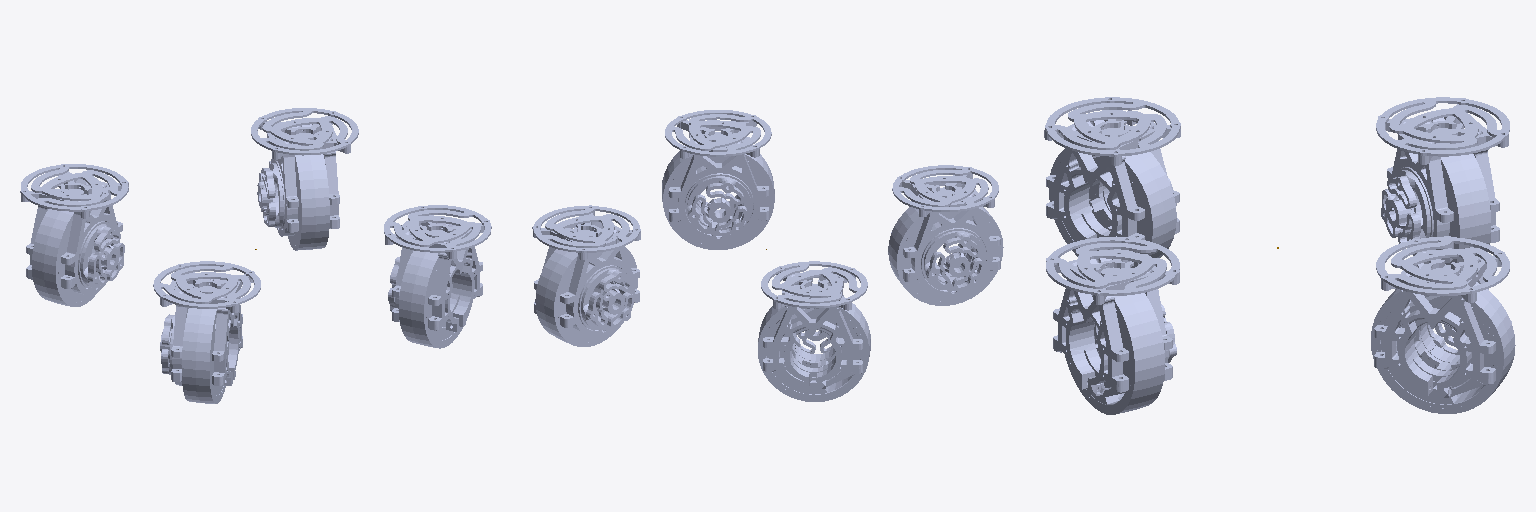
The robot description file, URDF, robot "Infantry2023":
<?xml version="1.0" encoding="utf-8"?>
<!-- This URDF was automatically created by SolidWorks to URDF Exporter! Originally created by [author] ([email redacted]) 
     Commit Version: 1.6.0-4-g7f85cfe  Build Version: 1.6.7995.38578
     For more information, please see http://wiki.ros.org/sw_urdf_exporter -->
<robot
  name="Infantry2023">
<link name="base_footprint">
    <visual>
        <origin xyz="0 0 0" rpy="0 0 0" />
        <geometry>
            <box size="0.001 0.001 0.001" />
        </geometry>
    </visual>
</link>

<joint name="base_footprint_joint" type="fixed">
    <origin xyz="0 0 0.001" rpy="0 0 0" />
    <parent link="base_footprint"/>
    <child link="base_link" />
</joint>
  <link
    name="base_link">
    <inertial>
      <origin
        xyz="-4.44731268389602E-05 -0.0128958761443199 0.0452136078609108"
        rpy="0 0 0" />
      <mass
        value="3.32445638874452" />
      <inertia
        ixx="0.00491568530747167"
        ixy="3.12661948325221E-07"
        ixz="6.0478132968072E-06"
        iyy="0.00558523884351327"
        iyz="-2.72827472437847E-05"
        izz="0.00788013913942305" />
    </inertial>
    <visual>
      <origin
        xyz="0 0 0"
        rpy="0 0 0" />
      <geometry>
        <mesh
          filename="package://infantry2023_description/meshes/visual/base_link.STL" />
      </geometry>
      <material
        name="">
        <color
          rgba="0.627450980392157 0.627450980392157 0.627450980392157 1" />
      </material>
    </visual>
    <collision>
      <origin
        xyz="0 0 0"
        rpy="0 0 0" />
      <geometry>
        <mesh
          filename="package://infantry2023_description/meshes/visual/base_link.STL" />
      </geometry>
    </collision>
  </link>
  <link
    name="Swerve1">
    <inertial>
      <origin
        xyz="-0.00218228603039089 -0.00561838251563398 0.000154985992435519"
        rpy="0 0 0" />
      <mass
        value="0.12509051804459" />
      <inertia
        ixx="0.000116981505902208"
        ixy="-1.18216858539901E-06"
        ixz="7.48448129109755E-09"
        iyy="8.01262501702026E-05"
        iyz="1.76996404557449E-06"
        izz="6.59357695156801E-05" />
    </inertial>
    <visual>
      <origin
        xyz="0 0 0"
        rpy="0 0 0" />
      <geometry>
        <mesh
          filename="package://infantry2023_description/meshes/visual/Swerve1.STL" />
      </geometry>
      <material
        name="">
        <color
          rgba="0.792156862745098 0.819607843137255 0.933333333333333 1" />
      </material>
    </visual>
    <collision>
      <origin
        xyz="0 0 0"
        rpy="0 0 0" />
      <geometry>
        <mesh
          filename="package://infantry2023_description/meshes/visual/Swerve1.STL" />
      </geometry>
    </collision>
  </link>
  <joint
    name="SwerveOrt1"
    type="continuous">
    <origin
      xyz="0.117999999999998 -0.118 0"
      rpy="1.5707963267949 0 -1.0077804964065" />
    <parent
      link="base_link" />
    <child
      link="Swerve1" />
    <axis
      xyz="0 1 0" />
  </joint>
  <link
    name="Wheel1">
    <inertial>
      <origin
        xyz="-0.00181927157167486 3.36064289868654E-08 2.74504813879695E-08"
        rpy="0 0 0" />
      <mass
        value="0.0781527646115954" />
      <inertia
        ixx="0.000152722323872376"
        ixy="1.12277614929581E-11"
        ixz="9.56457614627001E-12"
        iyy="8.06084271810555E-05"
        iyz="1.18378410380445E-10"
        izz="8.06079297167232E-05" />
    </inertial>
    <visual>
      <origin
        xyz="0 0 0"
        rpy="0 0 0" />
      <geometry>
        <mesh
          filename="package://infantry2023_description/meshes/visual/Wheel1.STL" />
      </geometry>
      <material
        name="">
        <color
          rgba="0.792156862745098 0.819607843137255 0.933333333333333 1" />
      </material>
    </visual>
    <collision>
      <origin
        xyz="0 0 0"
        rpy="0 0 0" />
      <geometry>
        <mesh
          filename="package://infantry2023_description/meshes/visual/Wheel1.STL" />
      </geometry>
    </collision>
  </link>
  <joint
    name="Wheel1"
    type="continuous">
    <origin
      xyz="0 -0.0207999999999906 9.02643274049153E-05"
      rpy="-0.584542615061481 0 0" />
    <parent
      link="Swerve1" />
    <child
      link="Wheel1" />
    <axis
      xyz="1 0 0" />
  </joint>
  <link
    name="Swerve2">
    <inertial>
      <origin
        xyz="-0.00165675945646224 -0.00561838267415753 -0.00142882729081312"
        rpy="0 0 0" />
      <mass
        value="0.125090525969345" />
      <inertia
        ixx="9.15958729998234E-05"
        ixy="-2.08628605932632E-06"
        ixz="2.55225001901956E-05"
        iyy="8.01262508302358E-05"
        iyz="4.21550708362048E-07"
        izz="9.1321403934597E-05" />
    </inertial>
    <visual>
      <origin
        xyz="0 0 0"
        rpy="0 0 0" />
      <geometry>
        <mesh
          filename="package://infantry2023_description/meshes/visual/Swerve2.STL" />
      </geometry>
      <material
        name="">
        <color
          rgba="0.792156862745098 0.819607843137255 0.933333333333333 1" />
      </material>
    </visual>
    <collision>
      <origin
        xyz="0 0 0"
        rpy="0 0 0" />
      <geometry>
        <mesh
          filename="package://infantry2023_description/meshes/visual/Swerve2.STL" />
      </geometry>
    </collision>
  </link>
  <joint
    name="SwerveOrt2"
    type="continuous">
    <origin
      xyz="-0.117999999999998 -0.118000000000005 0"
      rpy="1.5707963267949 0 0.0452748853481586" />
    <parent
      link="base_link" />
    <child
      link="Swerve2" />
    <axis
      xyz="0 1 0" />
  </joint>
  <link
    name="Wheel2">
    <inertial>
      <origin
        xyz="-0.00181927157167293 3.36064223255272E-08 2.74504762809435E-08"
        rpy="0 0 0" />
      <mass
        value="0.0781527646115949" />
      <inertia
        ixx="0.000152722323872376"
        ixy="1.12277614353599E-11"
        ixz="9.56457623266737E-12"
        iyy="8.0608427181056E-05"
        iyz="1.18378410342328E-10"
        izz="8.06079297167238E-05" />
    </inertial>
    <visual>
      <origin
        xyz="0 0 0"
        rpy="0 0 0" />
      <geometry>
        <mesh
          filename="package://infantry2023_description/meshes/visual/Wheel2.STL" />
      </geometry>
      <material
        name="">
        <color
          rgba="0.792156862745098 0.819607843137255 0.933333333333333 1" />
      </material>
    </visual>
    <collision>
      <origin
        xyz="0 0 0"
        rpy="0 0 0" />
      <geometry>
        <mesh
          filename="package://infantry2023_description/meshes/visual/Wheel2.STL" />
      </geometry>
    </collision>
  </link>
  <joint
    name="Wheel2"
    type="continuous">
    <origin
      xyz="-6.36453073919047E-05 -0.0208000000000706 6.40072156073007E-05"
      rpy="-0.584542615061623 -0.782563066705172 0" />
    <parent
      link="Swerve2" />
    <child
      link="Wheel2" />
    <axis
      xyz="1 0 0" />
  </joint>
  <link
    name="Swerve3">
    <inertial>
      <origin
        xyz="-0.00165474205243812 -0.00561927055977862 -0.00143085388976742"
        rpy="0 0 0" />
      <mass
        value="0.125090517964765" />
      <inertia
        ixx="9.15949389868014E-05"
        ixy="-2.08309795519893E-06"
        ixz="2.55248553899142E-05"
        iyy="8.01309763200056E-05"
        iyz="4.15667291107872E-07"
        izz="9.13176103696124E-05" />
    </inertial>
    <visual>
      <origin
        xyz="0 0 0"
        rpy="0 0 0" />
      <geometry>
        <mesh
          filename="package://infantry2023_description/meshes/visual/Swerve3.STL" />
      </geometry>
      <material
        name="">
        <color
          rgba="0.792156862745098 0.819607843137255 0.933333333333333 1" />
      </material>
    </visual>
    <collision>
      <origin
        xyz="0 0 0"
        rpy="0 0 0" />
      <geometry>
        <mesh
          filename="package://infantry2023_description/meshes/visual/Swerve3.STL" />
      </geometry>
    </collision>
  </link>
  <joint
    name="SwerveOrt3"
    type="continuous">
    <origin
      xyz="-0.118000000000001 0.117999999999997 0"
      rpy="1.5707963267949 0 2.82650685286413" />
    <parent
      link="base_link" />
    <child
      link="Swerve3" />
    <axis
      xyz="0 1 0" />
  </joint>
  <link
    name="Wheel3">
    <inertial>
      <origin
        xyz="-0.00181927277030913 7.13123274320715E-09 3.44955778525113E-09"
        rpy="0 0 0" />
      <mass
        value="0.0781527846492034" />
      <inertia
        ixx="0.000152722241044495"
        ixy="3.85994347921158E-12"
        ixz="2.88532717344719E-12"
        iyy="8.06082280952508E-05"
        iyz="8.97427221070886E-12"
        izz="8.06080464826168E-05" />
    </inertial>
    <visual>
      <origin
        xyz="0 0 0"
        rpy="0 0 0" />
      <geometry>
        <mesh
          filename="package://infantry2023_description/meshes/visual/Wheel3.STL" />
      </geometry>
      <material
        name="">
        <color
          rgba="0.792156862745098 0.819607843137255 0.933333333333333 1" />
      </material>
    </visual>
    <collision>
      <origin
        xyz="0 0 0"
        rpy="0 0 0" />
      <geometry>
        <mesh
          filename="package://infantry2023_description/meshes/visual/Wheel3.STL" />
      </geometry>
    </collision>
  </link>
  <joint
    name="Wheel3"
    type="continuous">
    <origin
      xyz="-6.36453073868948E-05 -0.0207999999999939 6.40072156022353E-05"
      rpy="-2.28570134033651 -0.782563066705175 0" />
    <parent
      link="Swerve3" />
    <child
      link="Wheel3" />
    <axis
      xyz="1 0 0" />
  </joint>
  <link
    name="Swerve4">
    <inertial>
      <origin
        xyz="-0.00165676146400878 -0.0056183827508177 -0.00142882907128244"
        rpy="0 0 0" />
      <mass
        value="0.125090533339578" />
      <inertia
        ixx="9.15958737370791E-05"
        ixy="-2.08628549049005E-06"
        ixz="2.55225000199367E-05"
        iyy="8.01262510701868E-05"
        iyz="4.21550053342676E-07"
        izz="9.1321404723039E-05" />
    </inertial>
    <visual>
      <origin
        xyz="0 0 0"
        rpy="0 0 0" />
      <geometry>
        <mesh
          filename="package://infantry2023_description/meshes/visual/Swerve4.STL" />
      </geometry>
      <material
        name="">
        <color
          rgba="0.792156862745098 0.819607843137255 0.933333333333333 1" />
      </material>
    </visual>
    <collision>
      <origin
        xyz="0 0 0"
        rpy="0 0 0" />
      <geometry>
        <mesh
          filename="package://infantry2023_description/meshes/visual/Swerve4.STL" />
      </geometry>
    </collision>
  </link>
  <joint
    name="SwerveOrt4"
    type="continuous">
    <origin
      xyz="0.117999999999991 0.117999999999998 0"
      rpy="1.5707963267949 0 0.454955024862355" />
    <parent
      link="base_link" />
    <child
      link="Swerve4" />
    <axis
      xyz="0 1 0" />
  </joint>
  <link
    name="Wheel4">
    <inertial>
      <origin
        xyz="-0.00181927157167497 3.3606435620448E-08 2.74504864672398E-08"
        rpy="0 0 0" />
      <mass
        value="0.0781527646115949" />
      <inertia
        ixx="0.000152722323872377"
        ixy="1.12277615802025E-11"
        ixz="9.56457621572671E-12"
        iyy="8.0608427181056E-05"
        iyz="1.18378410745516E-10"
        izz="8.06079297167232E-05" />
    </inertial>
    <visual>
      <origin
        xyz="0 0 0"
        rpy="0 0 0" />
      <geometry>
        <mesh
          filename="package://infantry2023_description/meshes/visual/Wheel4.STL" />
      </geometry>
      <material
        name="">
        <color
          rgba="0.792156862745098 0.819607843137255 0.933333333333333 1" />
      </material>
    </visual>
    <collision>
      <origin
        xyz="0 0 0"
        rpy="0 0 0" />
      <geometry>
        <mesh
          filename="package://infantry2023_description/meshes/visual/Wheel4.STL" />
      </geometry>
    </collision>
  </link>
  <joint
    name="Wheel4"
    type="continuous">
    <origin
      xyz="-6.36453073884491E-05 -0.0207999999998955 6.40072156038243E-05"
      rpy="-0.584542615061526 -0.782563066705173 0" />
    <parent
      link="Swerve4" />
    <child
      link="Wheel4" />
    <axis
      xyz="1 0 0" />
  </joint>
  <link
    name="TurretBody">
    <inertial>
      <origin
        xyz="-0.00238952849570441 0.058759051673963 0.0124010780918334"
        rpy="0 0 0" />
      <mass
        value="0.622229722588355" />
      <inertia
        ixx="0.000646381393997478"
        ixy="-5.93749252738385E-06"
        ixz="-1.1270166357088E-05"
        iyy="0.000465990637412568"
        iyz="6.89675151459739E-06"
        izz="0.000624308726742422" />
    </inertial>
    <visual>
      <origin
        xyz="0 0 0"
        rpy="0 0 0" />
      <geometry>
        <mesh
          filename="package://infantry2023_description/meshes/visual/TurretBody.STL" />
      </geometry>
      <material
        name="">
        <color
          rgba="0.792156862745098 0.819607843137255 0.933333333333333 1" />
      </material>
    </visual>
    <collision>
      <origin
        xyz="0 0 0"
        rpy="0 0 0" />
      <geometry>
        <mesh
          filename="package://infantry2023_description/meshes/visual/TurretBody.STL" />
      </geometry>
    </collision>
  </link>
  <joint
    name="TurretOrt"
    type="continuous">
    <origin
      xyz="0 0 0.104999999999996"
      rpy="1.57079632679489 0 -2.79982925994276" />
    <parent
      link="base_link" />
    <child
      link="TurretBody" />
    <axis
      xyz="0 1 0" />
  </joint>
  <link
    name="Gun">
    <inertial>
      <origin
        xyz="0.000605233842979931 0.0310866824300715 0.0843430608790675"
        rpy="0 0 0" />
      <mass
        value="0.527530322363297" />
      <inertia
        ixx="0.000430548962224304"
        ixy="2.28755576937329E-07"
        ixz="-9.46127412290321E-07"
        iyy="0.000517544568671493"
        iyz="-9.43790260156085E-06"
        izz="0.000224765295838933" />
    </inertial>
    <visual>
      <origin
        xyz="0 0 0"
        rpy="0 0 0" />
      <geometry>
        <mesh
          filename="package://infantry2023_description/meshes/visual/Gun.STL" />
      </geometry>
      <material
        name="">
        <color
          rgba="0.752941176470588 0.752941176470588 0.752941176470588 1" />
      </material>
    </visual>
    <collision>
      <origin
        xyz="0 0 0"
        rpy="0 0 0" />
      <geometry>
        <mesh
          filename="package://infantry2023_description/meshes/visual/Gun.STL" />
      </geometry>
    </collision>
  </link>
  <joint
    name="GunRevo"
    type="continuous">
    <origin
      xyz="0 0.1625 0"
      rpy="-0.446108315328483 0 0" />
    <parent
      link="TurretBody" />
    <child
      link="Gun" />
    <axis
      xyz="1 0 0" />
  </joint>
</robot>

--- What the picture shows (computed from the rendered views, not written in the file) ---
3 views of the same robot in one strip: view 1: azimuth 30°, elevation 25°; view 2: azimuth 150°, elevation 25°; view 3: azimuth 270°, elevation 25° (orthographic).
Robot: Infantry2023 — 12 links, 11 joints (10 continuous, 1 fixed); root link base_footprint; default pose: all joints at 0.
Links seen in each view (by area): view 1: Swerve3, Swerve1, Swerve2, Swerve4, Wheel3, Wheel4, Wheel1, Wheel2; view 2: Swerve1, Swerve3, Swerve2, Swerve4, Wheel4, Wheel2, Wheel1, Wheel3; view 3: Swerve4, Swerve1, Swerve2, Swerve3, Wheel4, Wheel1, Wheel2, Wheel3.
Boxes of the visible links, <box> form: Swerve3: <box>20,164,128,295</box>; Swerve1: <box>384,205,491,339</box>; Swerve2: <box>153,261,260,395</box>; Swerve4: <box>251,108,358,236</box>; Wheel3: <box>32,209,98,306</box>; Wheel4: <box>288,154,329,250</box>; Wheel1: <box>399,251,472,348</box>; Wheel2: <box>182,308,226,403</box>; Swerve1: <box>665,110,771,241</box>; Swerve3: <box>761,261,867,394</box>; Swerve2: <box>891,165,1000,297</box>; Swerve4: <box>532,205,640,336</box>; Wheel4: <box>535,246,637,346</box>; Wheel2: <box>888,206,1003,305</box>; Wheel1: <box>662,151,774,249</box>; Wheel3: <box>758,296,870,401</box>; Swerve4: <box>1374,237,1511,404</box>; Swerve1: <box>1046,237,1179,404</box>; Swerve2: <box>1044,97,1180,251</box>; Swerve3: <box>1376,97,1509,255</box>; Wheel4: <box>1371,282,1515,413</box>; Wheel1: <box>1064,293,1164,414</box>; Wheel2: <box>1049,148,1176,267</box>; Wheel3: <box>1413,154,1490,264</box>.
Bounding box of the posed robot: 0.3359 × 0.3366 × 0.1118 m (x, y, z).
Meshes: 11 distinct files referenced, 8 mesh visuals loaded (8 binary STL); not drawn: 3 (reference not matched to a file when rendering).